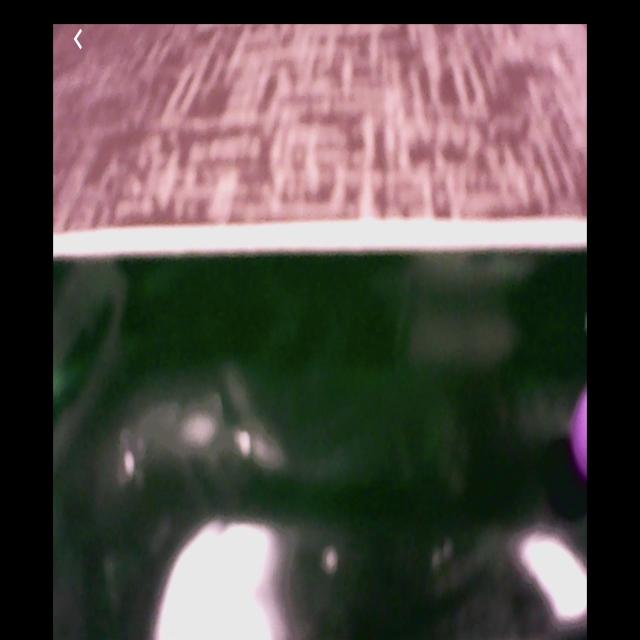ball: (569, 386, 589, 482)
